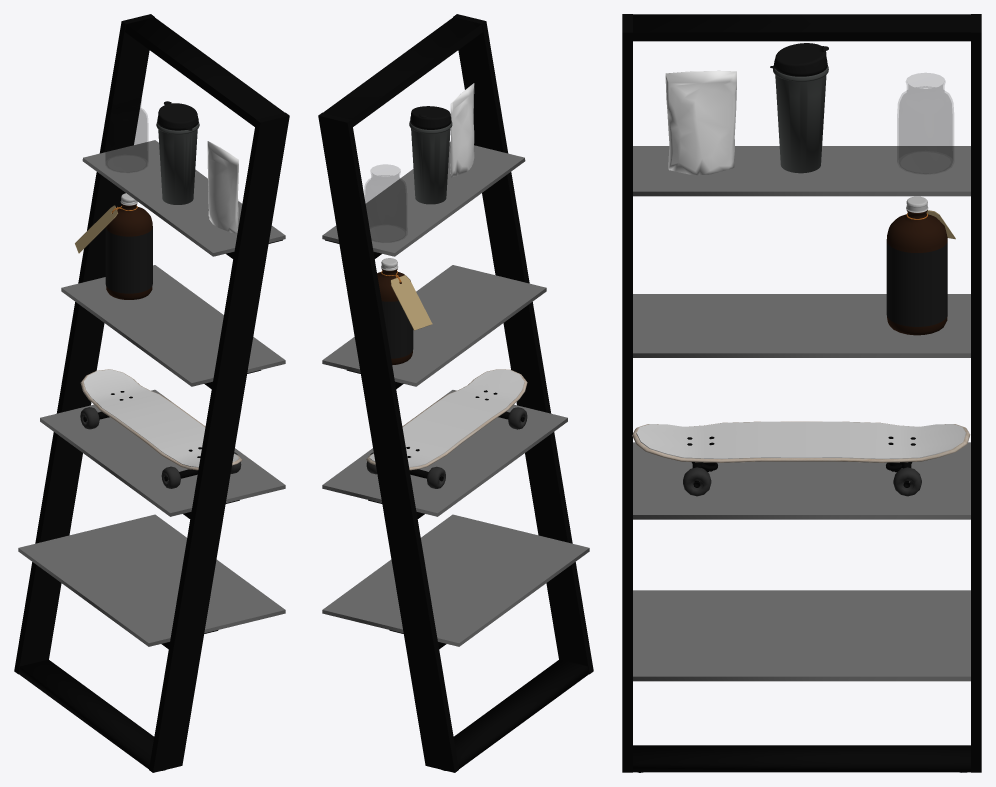
The model's file is InteriorItems.fbx.
3 renders of one model, left to right at view 1: azimuth 30°, elevation 25°; view 2: azimuth 150°, elevation 25°; view 3: azimuth 270°, elevation 25°, orthographic. The views are drawn at different scales.
Visible parts, largest first — view 1: Shelf, skateboard, Vase, cold_brew_coffee_prints, TravelCupBottom, resealable-food-pouch, cold_brew_coffee_glass, TravelCupTop, cold_brew_coffee_label; view 2: Shelf, skateboard, Vase, TravelCupBottom, resealable-food-pouch, cold_brew_coffee_prints, cold_brew_coffee_label, TravelCupTop, cold_brew_coffee_glass; view 3: Shelf, skateboard, resealable-food-pouch, Vase, cold_brew_coffee_prints, TravelCupBottom, cold_brew_coffee_glass, TravelCupTop.
Part boxes in pixels (left/top/right/bottom): Shelf: left=14, top=14, right=289, bottom=772; skateboard: left=80, top=369, right=242, bottom=488; Vase: left=105, top=95, right=147, bottom=172; cold_brew_coffee_prints: left=105, top=226, right=152, bottom=293; TravelCupBottom: left=156, top=122, right=199, bottom=204; resealable-food-pouch: left=207, top=141, right=238, bottom=233; cold_brew_coffee_glass: left=106, top=203, right=152, bottom=299; TravelCupTop: left=157, top=101, right=198, bottom=130; cold_brew_coffee_label: left=75, top=205, right=117, bottom=253; Shelf: left=318, top=14, right=593, bottom=772; skateboard: left=366, top=369, right=527, bottom=488; Vase: left=364, top=165, right=406, bottom=242; TravelCupBottom: left=409, top=120, right=452, bottom=204; resealable-food-pouch: left=450, top=83, right=474, bottom=177; cold_brew_coffee_prints: left=381, top=301, right=413, bottom=358; cold_brew_coffee_label: left=390, top=275, right=432, bottom=330; TravelCupTop: left=410, top=106, right=451, bottom=129; cold_brew_coffee_glass: left=377, top=268, right=412, bottom=364; Shelf: left=622, top=14, right=981, bottom=772; skateboard: left=632, top=421, right=970, bottom=496; resealable-food-pouch: left=665, top=70, right=736, bottom=175; Vase: left=897, top=73, right=953, bottom=173; cold_brew_coffee_prints: left=886, top=239, right=947, bottom=326; TravelCupBottom: left=773, top=65, right=828, bottom=173; cold_brew_coffee_glass: left=887, top=210, right=947, bottom=335; TravelCupTop: left=770, top=43, right=828, bottom=76.
Size of the model in its own units: 410 by 1798 by 720.
